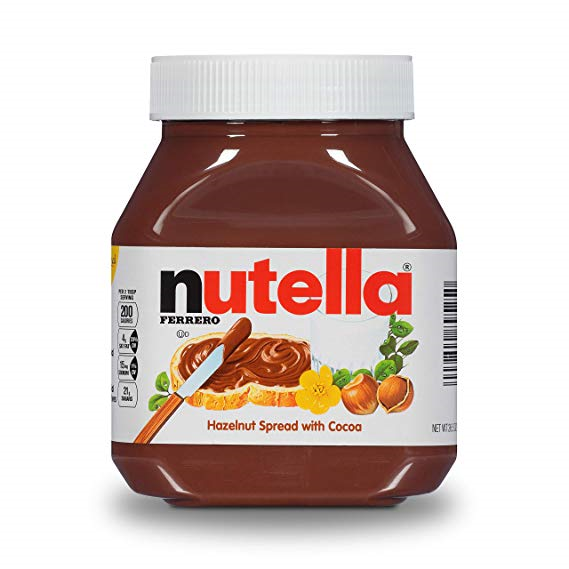nutella: (111, 55, 457, 508)
